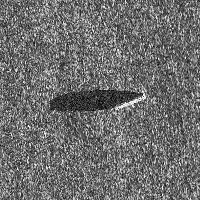mine: (48, 89, 147, 111)
